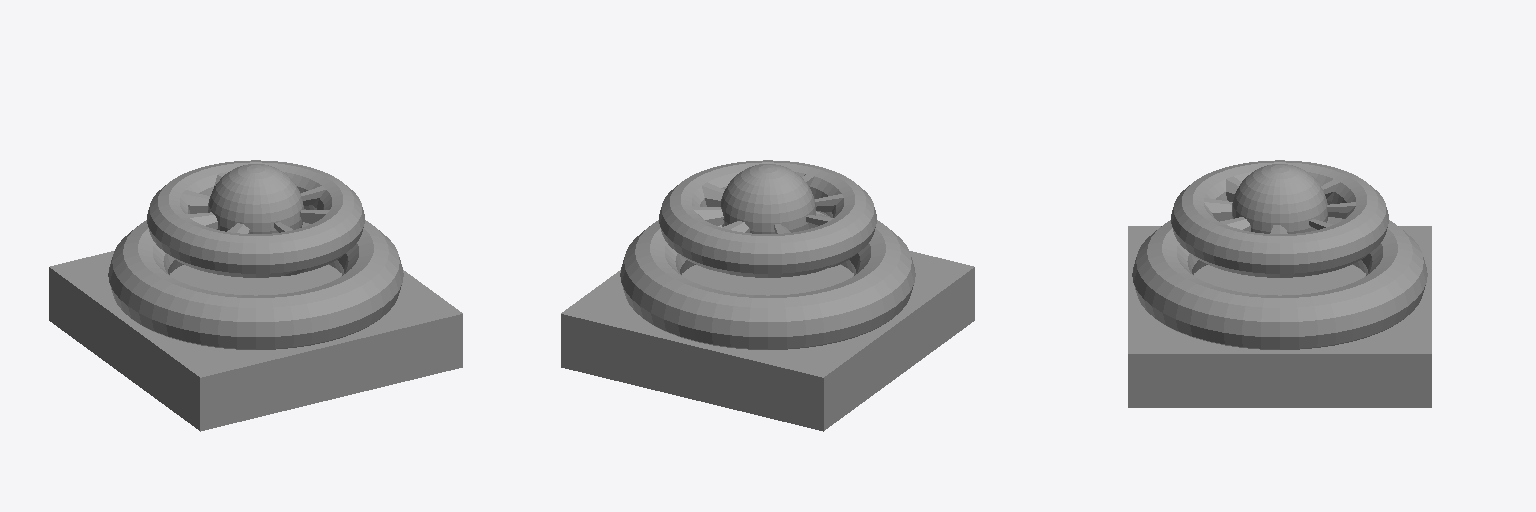
The model's file is rf_injector.obj.
3 renders of one model, left to right at view 1: azimuth 30°, elevation 25°; view 2: azimuth 150°, elevation 25°; view 3: azimuth 270°, elevation 25°, orthographic.
Visible parts, largest first — view 1: Cube_Cube.001, Torus, Torus.001, Sphere; view 2: Cube_Cube.001, Torus, Torus.001, Sphere; view 3: Cube_Cube.001, Torus, Torus.001, Sphere.
Part boxes in pixels (bbox=[...]): Cube_Cube.001: bbox=[49, 251, 462, 431]; Torus: bbox=[108, 220, 403, 349]; Torus.001: bbox=[147, 160, 364, 277]; Sphere: bbox=[208, 164, 303, 233]; Cube_Cube.001: bbox=[561, 251, 974, 431]; Torus: bbox=[620, 211, 915, 349]; Torus.001: bbox=[659, 160, 876, 277]; Sphere: bbox=[720, 164, 815, 233]; Cube_Cube.001: bbox=[1128, 226, 1431, 407]; Torus: bbox=[1132, 217, 1427, 349]; Torus.001: bbox=[1171, 160, 1388, 277]; Sphere: bbox=[1232, 164, 1327, 233].
Size of the model in its own units: 1.02 by 0.6545 by 1.02.